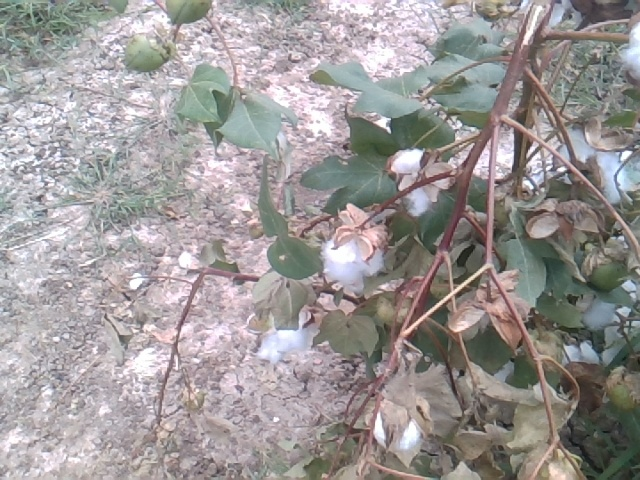cotton: (551, 130, 628, 208), (316, 212, 388, 292), (368, 393, 429, 470), (385, 148, 447, 219), (254, 306, 316, 363), (577, 276, 626, 332), (572, 1, 639, 41), (525, 330, 580, 376), (519, 1, 572, 34), (619, 12, 640, 85)
